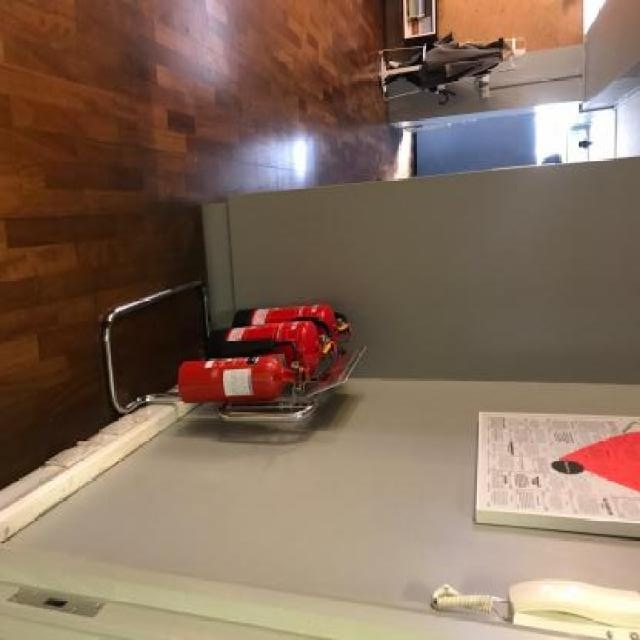fire extinguisher: (179, 339, 307, 404), (205, 317, 338, 374), (232, 303, 354, 351)
